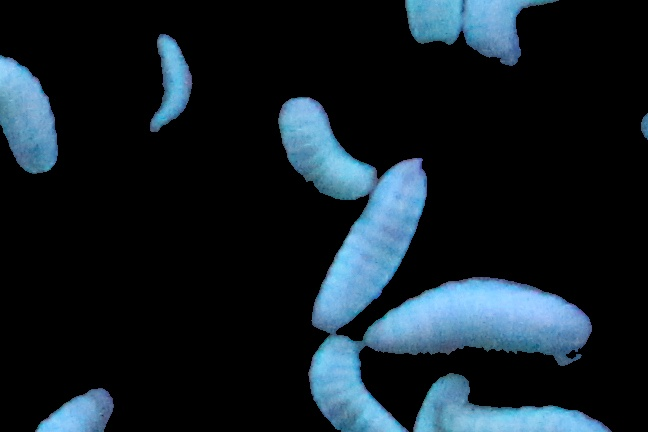larvae: (313, 159, 427, 333), (368, 278, 593, 358), (277, 94, 368, 200), (308, 339, 403, 432), (462, 1, 562, 69), (1, 52, 57, 173), (442, 397, 609, 432), (151, 22, 197, 145), (33, 384, 116, 432), (412, 370, 468, 432), (408, 1, 468, 46)
